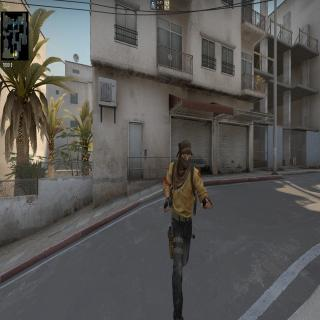T-Head: (176, 137, 193, 173)
